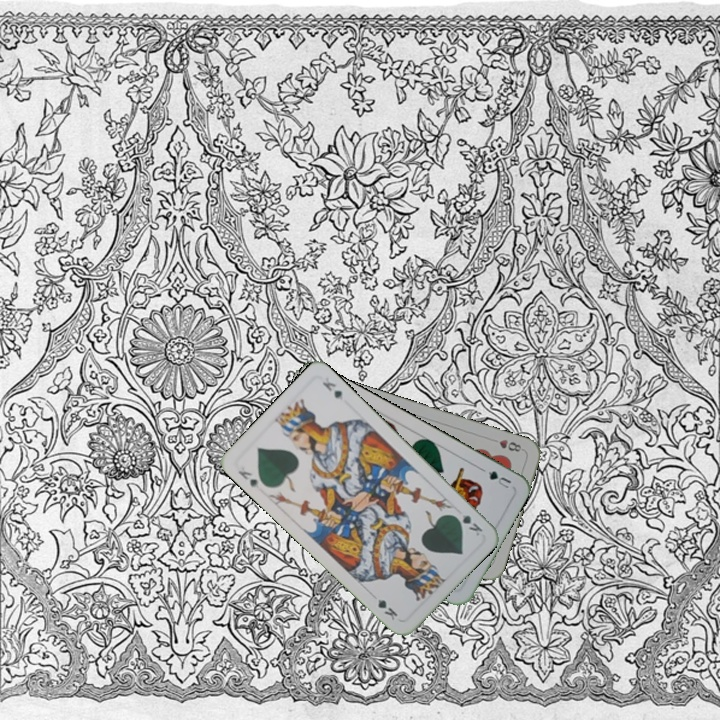GK: (449, 510, 485, 538), (234, 466, 260, 491)
GU: (484, 467, 514, 491)
H8: (495, 435, 524, 455)
